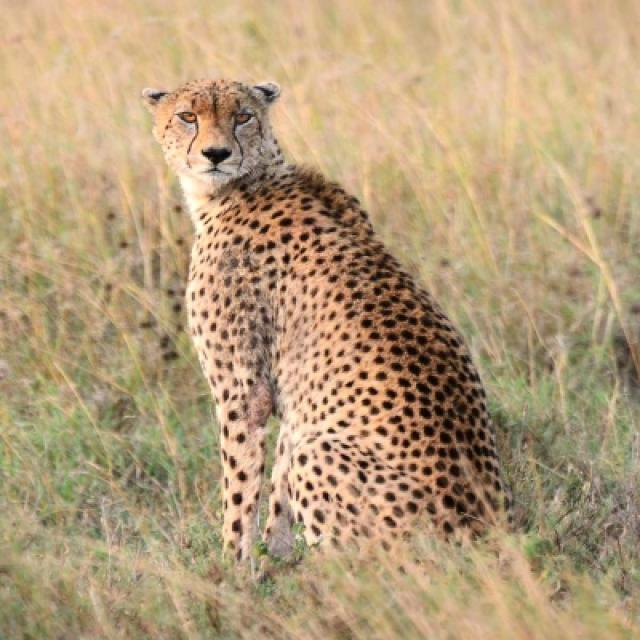Cheetah: (141, 78, 504, 563)
